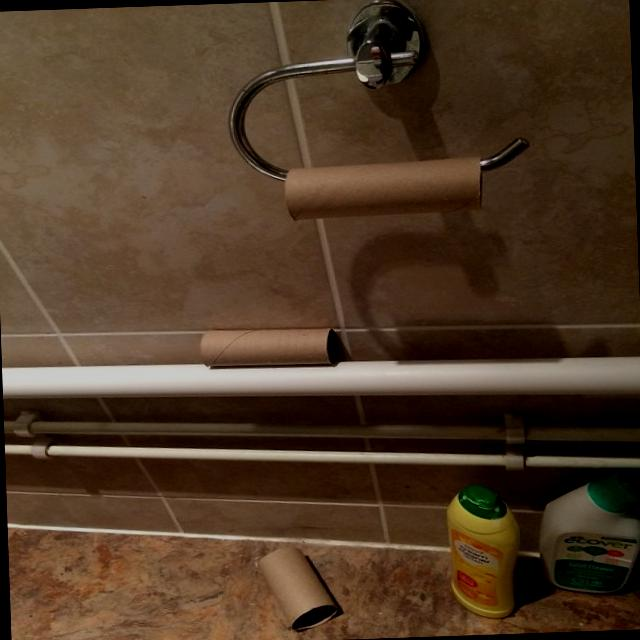Recycle: (268, 148, 488, 222), (538, 466, 640, 605), (446, 479, 526, 618), (250, 536, 341, 635), (192, 317, 338, 369)
